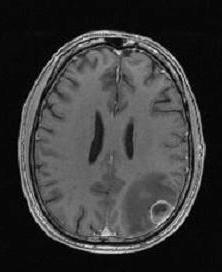Normal_Brain: (1, 1, 212, 269)
